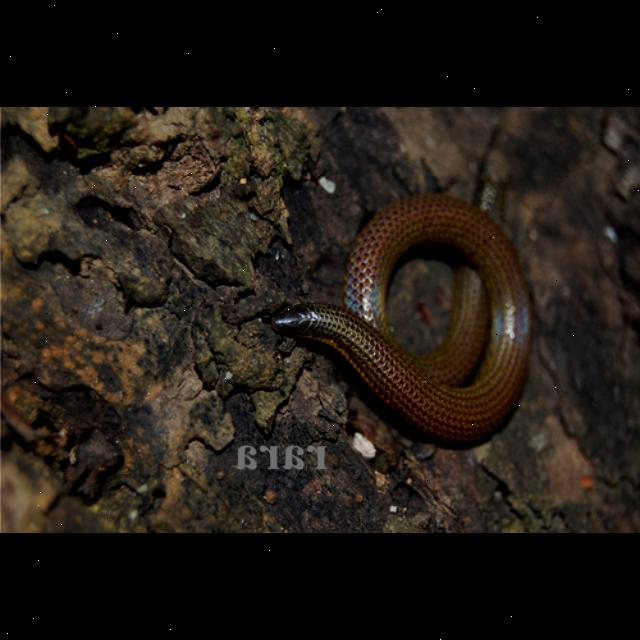snake: (260, 190, 540, 452)
